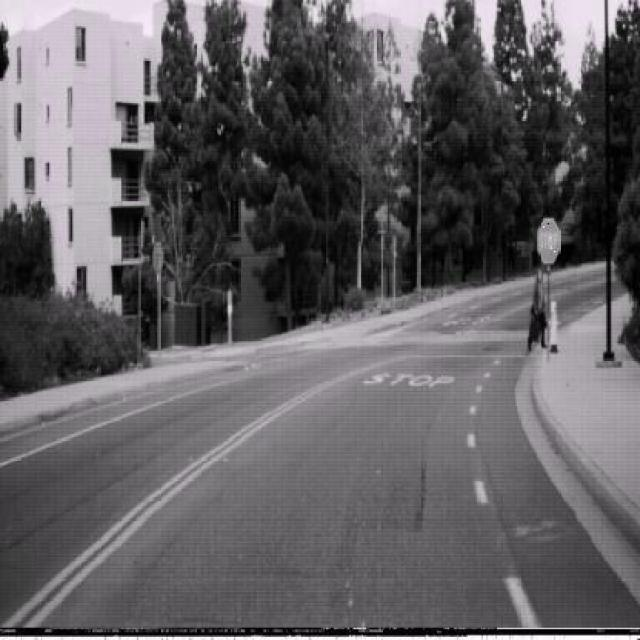stop: (537, 217, 560, 265)
